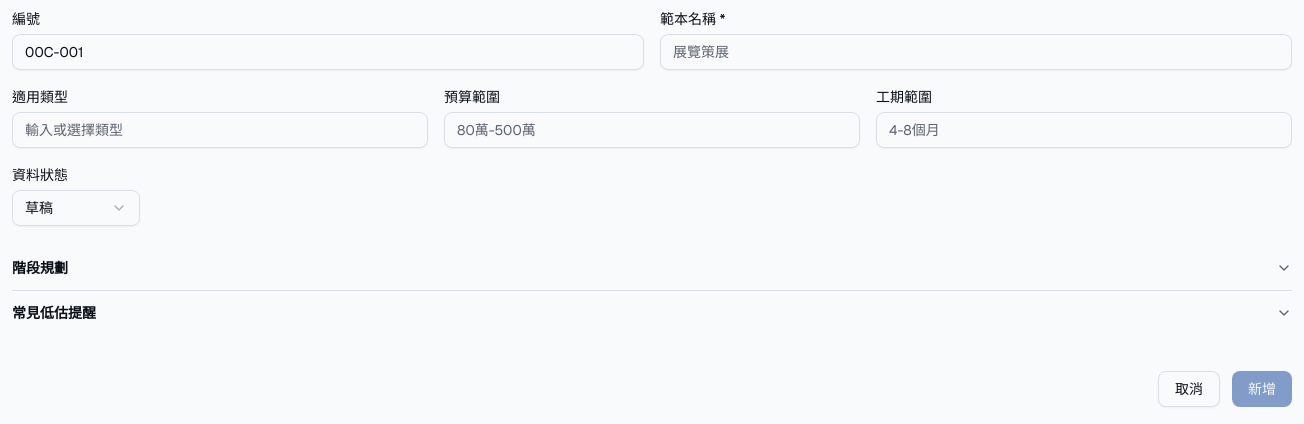
Scenario: EntryEditor00C — 時程範本 › 輸入範本名稱後儲存按鈕可用
The width and height of the screenshot is (1304, 424).
# 找到範本名稱 placeholder 的 input
Type "自然導覽" into the field with placeholder "展覽策展" at {"x": 976, "y": 52}, box [660,34,1292,70]
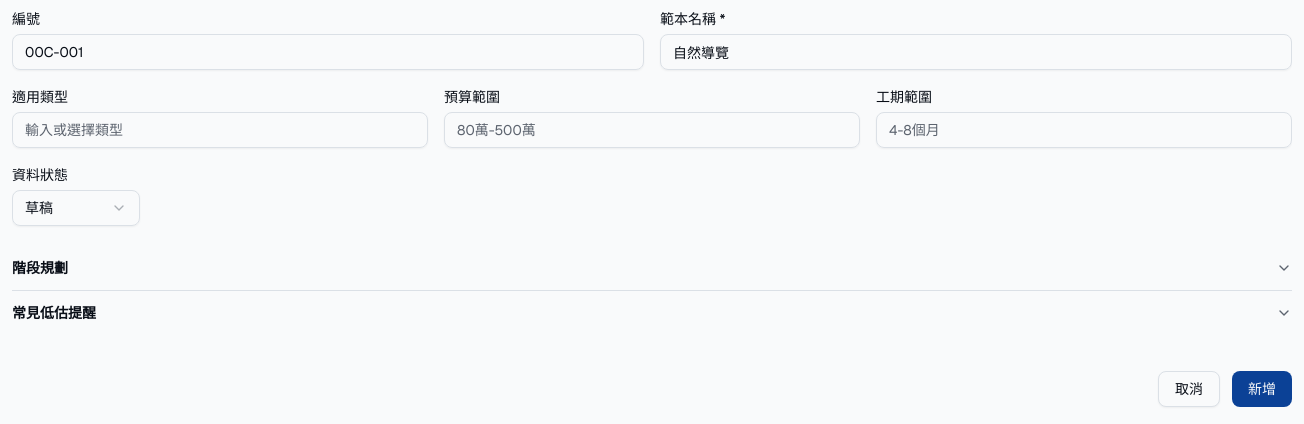
expect the button "新增" is enabled: met, box [1232,371,1292,407]
